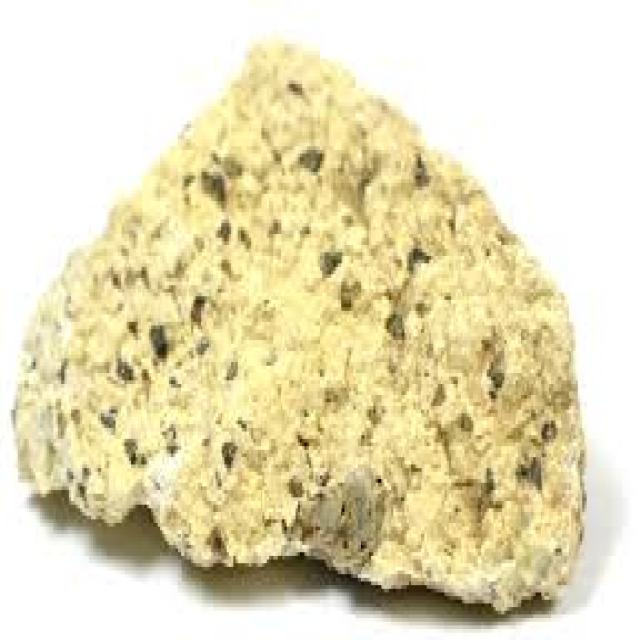Metamorphic: (16, 37, 596, 618)
